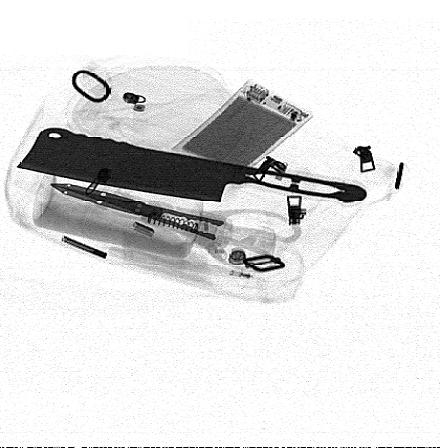Knife: (15, 128, 369, 207)
Powerbank: (168, 77, 317, 186)
Scissors: (47, 183, 306, 271)
